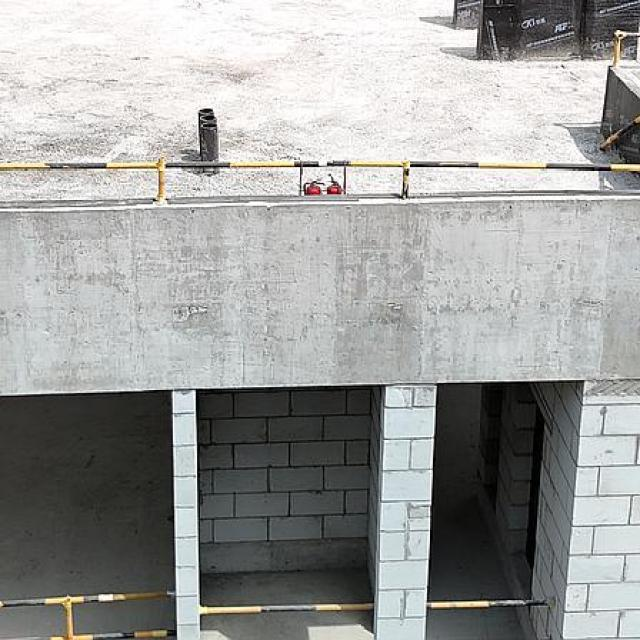edge_guardrail: (0, 156, 640, 206), (0, 588, 177, 640), (198, 603, 376, 614), (598, 114, 640, 151), (607, 25, 640, 72), (425, 598, 555, 609)
